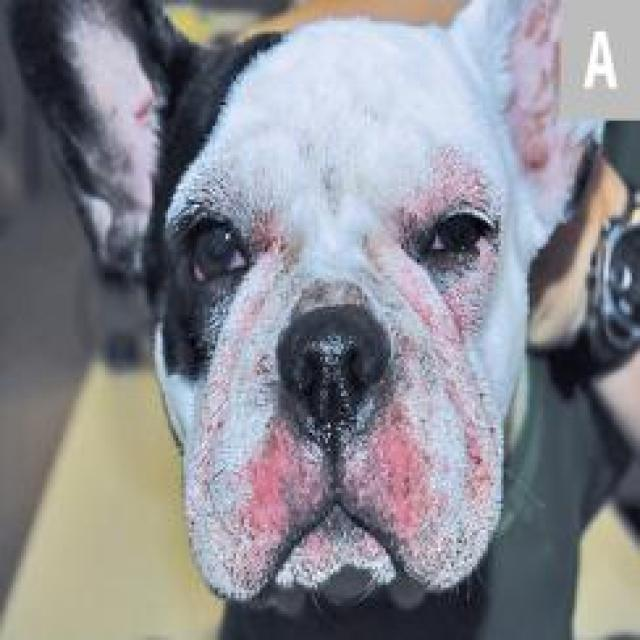allergic dermatitis: (228, 417, 311, 549), (360, 412, 442, 528), (397, 148, 498, 202), (383, 194, 429, 302), (413, 288, 484, 346), (460, 400, 495, 500), (249, 208, 294, 281)
